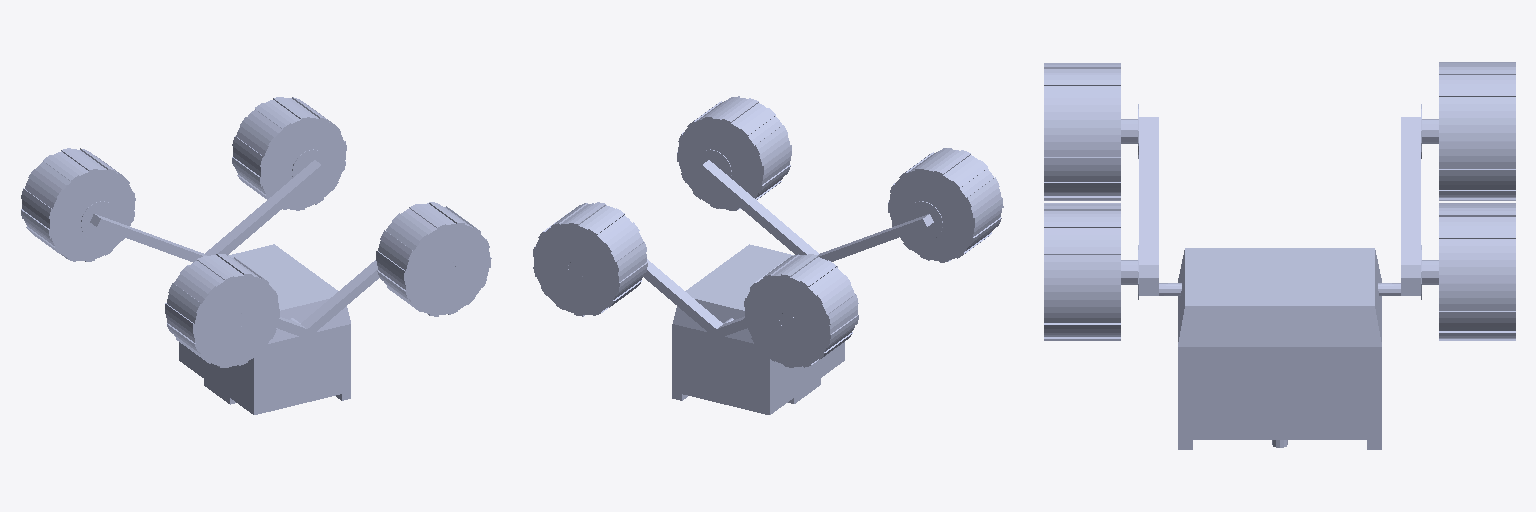
URDF robot description (robot_description):
<?xml version="1.0" encoding="utf-8"?>
<!-- This URDF was automatically created by SolidWorks to URDF Exporter! Originally created by [author] ([email redacted]) 
     Commit Version: 1.6.0-4-g7f85cfe  Build Version: 1.6.7995.38578
     For more information, please see http://wiki.ros.org/sw_urdf_exporter -->
<robot
  name="robot_description">
  <link
    name="base_link">
    <inertial>
      <origin
        xyz="-0.0085571580084014 -9.57377255938964E-05 0.158358924022717"
        rpy="0 0 0" />
      <mass
        value="36.4090186352555" />
      <inertia
        ixx="1.14989797110002"
        ixy="-2.43735391975683E-05"
        ixz="0.0182296282265288"
        iyy="0.875741628239762"
        iyz="-3.3601253494027E-05"
        izz="1.2152774654334" />
    </inertial>
    <visual>
      <origin
        xyz="0 0 0"
        rpy="0 0 0" />
      <geometry>
        <mesh
          filename="package://robot_description/meshes/base_link.STL" />
      </geometry>
      <material
        name="">
        <color
          rgba="0.792156862745098 0.819607843137255 0.933333333333333 1" />
      </material>
    </visual>
    <collision>
      <origin
        xyz="0 0 0"
        rpy="0 0 0" />
      <geometry>
        <mesh
          filename="package://robot_description/meshes/base_link.STL" />
      </geometry>
    </collision>
  </link>
  <link
    name="link_BR">
    <inertial>
      <origin
        xyz="-0.65034495600087 0.845 -2.77555756156289E-17"
        rpy="0 0 0" />
      <mass
        value="8.03286499782857" />
      <inertia
        ixx="0.0518365067203933"
        ixy="2.81782289636273E-18"
        ixz="2.12705860438942E-18"
        iyy="0.0735497696989295"
        iyz="-2.9413891315951E-18"
        izz="0.0518365067203933" />
    </inertial>
    <visual>
      <origin
        xyz="0 0 0"
        rpy="0 0 0" />
      <geometry>
        <mesh
          filename="package://robot_description/meshes/link_BR.STL" />
      </geometry>
      <material
        name="">
        <color
          rgba="0.792156862745098 0.819607843137255 0.933333333333333 1" />
      </material>
    </visual>
    <collision>
      <origin
        xyz="0 0 0"
        rpy="0 0 0" />
      <geometry>
        <mesh
          filename="package://robot_description/meshes/link_BR.STL" />
      </geometry>
    </collision>
  </link>
  <joint
    name="joint_BR"
    type="continuous">
    <origin
      xyz="0.29061 -0.46009 0.43026"
      rpy="0 0 0" />
    <parent
      link="base_link" />
    <child
      link="link_BR" />
    <axis
      xyz="0 1 0" />
  </joint>
  <link
    name="link_BL">
    <inertial>
      <origin
        xyz="-0.65034495600087 -0.845 -5.55111512312578E-17"
        rpy="0 0 0" />
      <mass
        value="8.03286499782856" />
      <inertia
        ixx="0.0518365067203933"
        ixy="7.83710860584171E-19"
        ixz="1.21760986167806E-17"
        iyy="0.0735497696989294"
        iyz="3.18550845030505E-19"
        izz="0.0518365067203932" />
    </inertial>
    <visual>
      <origin
        xyz="0 0 0"
        rpy="0 0 0" />
      <geometry>
        <mesh
          filename="package://robot_description/meshes/link_BL.STL" />
      </geometry>
      <material
        name="">
        <color
          rgba="0.792156862745098 0.819607843137255 0.933333333333333 1" />
      </material>
    </visual>
    <collision>
      <origin
        xyz="0 0 0"
        rpy="0 0 0" />
      <geometry>
        <mesh
          filename="package://robot_description/meshes/link_BL.STL" />
      </geometry>
    </collision>
  </link>
  <joint
    name="joint_BL"
    type="continuous">
    <origin
      xyz="0.29061 0.45991 0.43026"
      rpy="0 0 0" />
    <parent
      link="base_link" />
    <child
      link="link_BL" />
    <axis
      xyz="0 1 0" />
  </joint>
  <link
    name="link_FR">
    <inertial>
      <origin
        xyz="0.65034495600087 0.845 1.66533453693773E-16"
        rpy="0 0 0" />
      <mass
        value="8.03286499782857" />
      <inertia
        ixx="0.0518365067203933"
        ixy="2.80334530458947E-18"
        ixz="2.21023564860025E-17"
        iyy="0.0735497696989295"
        iyz="-1.51379332393697E-18"
        izz="0.0518365067203933" />
    </inertial>
    <visual>
      <origin
        xyz="0 0 0"
        rpy="0 0 0" />
      <geometry>
        <mesh
          filename="package://robot_description/meshes/link_FR.STL" />
      </geometry>
      <material
        name="">
        <color
          rgba="0.792156862745098 0.819607843137255 0.933333333333333 1" />
      </material>
    </visual>
    <collision>
      <origin
        xyz="0 0 0"
        rpy="0 0 0" />
      <geometry>
        <mesh
          filename="package://robot_description/meshes/link_FR.STL" />
      </geometry>
    </collision>
  </link>
  <joint
    name="joint_FR"
    type="continuous">
    <origin
      xyz="-0.35973 -0.46009 0.43026"
      rpy="0 0 0" />
    <parent
      link="base_link" />
    <child
      link="link_FR" />
    <axis
      xyz="0 1 0" />
  </joint>
  <link
    name="link_FL">
    <inertial>
      <origin
        xyz="0.65034495600087 -0.845 1.38777878078145E-16"
        rpy="0 0 0" />
      <mass
        value="8.03286499782857" />
      <inertia
        ixx="0.0518365067203933"
        ixy="3.89221565430702E-19"
        ixz="-4.21360106871541E-18"
        iyy="0.0735497696989295"
        iyz="3.94929111657312E-19"
        izz="0.0518365067203933" />
    </inertial>
    <visual>
      <origin
        xyz="0 0 0"
        rpy="0 0 0" />
      <geometry>
        <mesh
          filename="package://robot_description/meshes/link_FL.STL" />
      </geometry>
      <material
        name="">
        <color
          rgba="0.792156862745098 0.819607843137255 0.933333333333333 1" />
      </material>
    </visual>
    <collision>
      <origin
        xyz="0 0 0"
        rpy="0 0 0" />
      <geometry>
        <mesh
          filename="package://robot_description/meshes/link_FL.STL" />
      </geometry>
    </collision>
  </link>
  <joint
    name="joint_FL"
    type="continuous">
    <origin
      xyz="-0.35973 0.45991 0.43026"
      rpy="0 0 0" />
    <parent
      link="base_link" />
    <child
      link="link_FL" />
    <axis
      xyz="0 1 0" />
  </joint>
</robot>

--- Render facts (derived) ---
3 views of the same robot in one strip: view 1: azimuth 30°, elevation 25°; view 2: azimuth 150°, elevation 25°; view 3: azimuth 270°, elevation 25° (orthographic).
Model robot_description with 5 links and 4 joints (4 continuous), rooted at base_link, posed all joints at 0.
Visible links, largest first — view 1: base_link, link_BL, link_FL, link_BR, link_FR; view 2: base_link, link_BR, link_FR, link_BL, link_FL; view 3: base_link, link_BR, link_BL, link_FR, link_FL.
Boxes of the visible links, x1,y1,x2,y2 form: base_link: (81, 149, 455, 414); link_BL: (165, 254, 279, 367); link_FL: (376, 202, 491, 316); link_BR: (21, 148, 135, 261); link_FR: (232, 97, 346, 210); base_link: (568, 149, 942, 414); link_BR: (744, 254, 858, 367); link_FR: (533, 202, 647, 316); link_BL: (888, 148, 1003, 262); link_FL: (677, 96, 791, 210); base_link: (1121, 104, 1438, 449); link_BR: (1439, 62, 1515, 200); link_BL: (1044, 63, 1120, 200); link_FR: (1439, 203, 1515, 340); link_FL: (1044, 203, 1120, 340).
Bounding box of the posed robot: 0.9202 × 0.92 × 0.6452 m (x, y, z).
Meshes: 5 distinct files referenced, 5 mesh visuals loaded (5 binary STL).